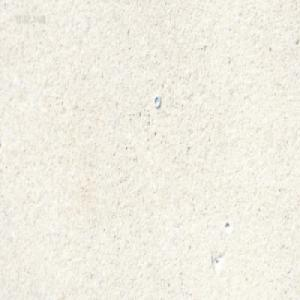Washer: (153, 94, 161, 108)
